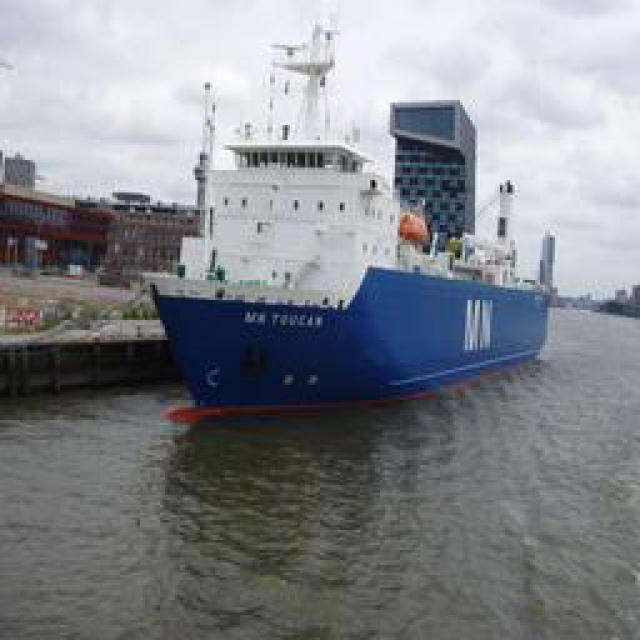Ship: (154, 23, 559, 408)
